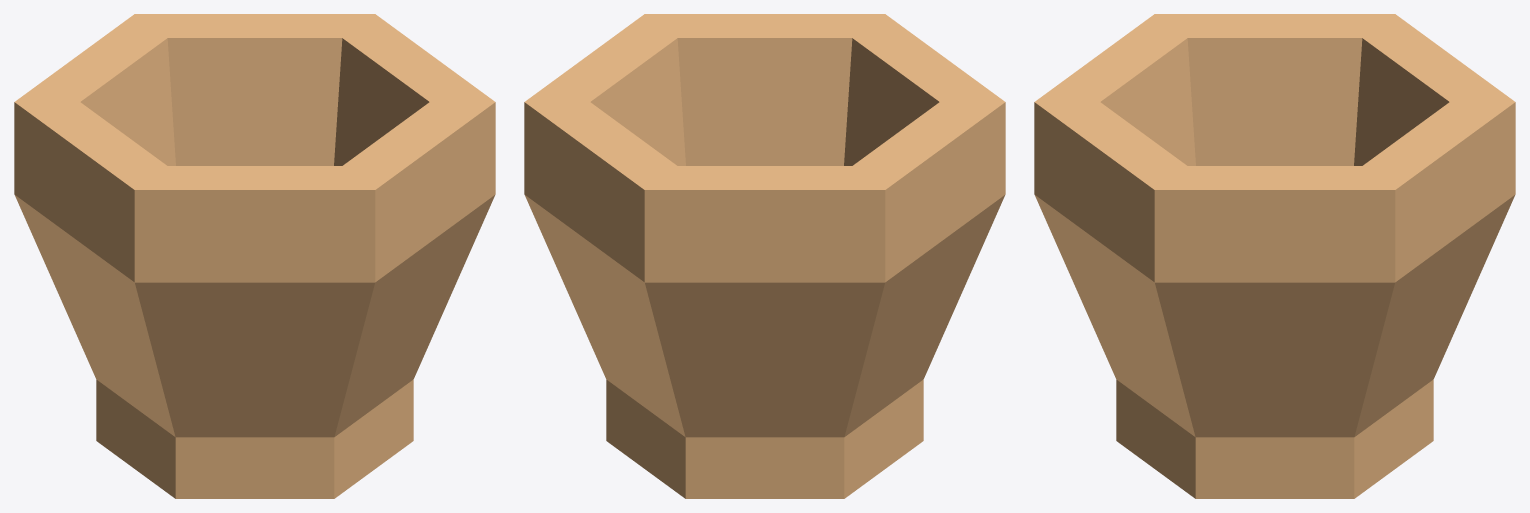
File: iceCreamCup.fbx
The picture shows the model from 3 angles, left to right: view 1: azimuth 30°, elevation 25°; view 2: azimuth 150°, elevation 25°; view 3: azimuth 270°, elevation 25°; orthographic projection.
Parts seen in each view (by area): view 1: iceCreamCup; view 2: iceCreamCup; view 3: iceCreamCup.
Boxes of the visible parts, x1,y1,x2,y2 form: iceCreamCup: (14, 14, 495, 498); iceCreamCup: (524, 14, 1005, 498); iceCreamCup: (1034, 14, 1515, 498).
Size of the model in its own units: 2.01 by 1.8 by 2.32.
